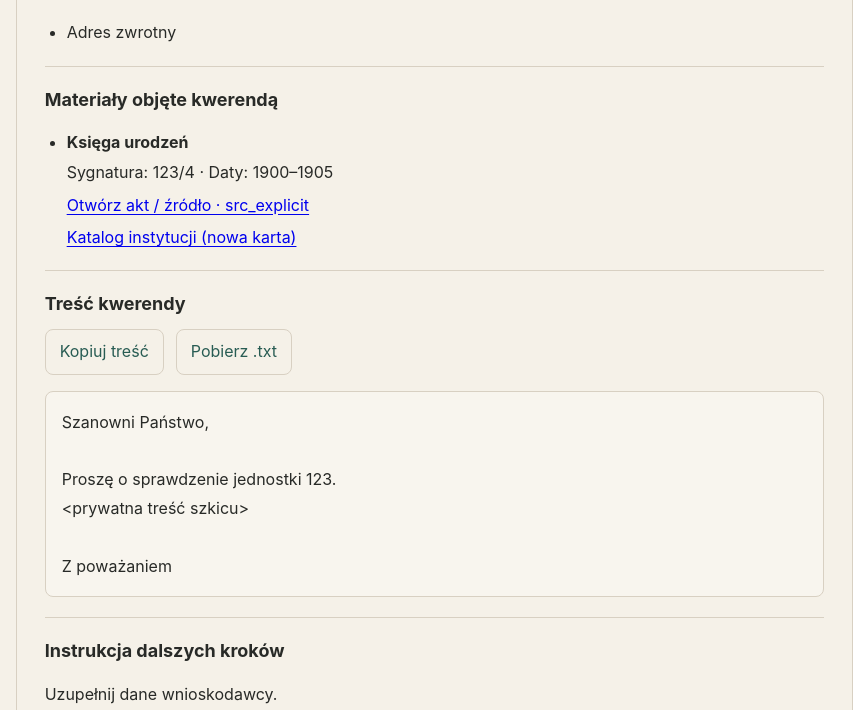
Test case: ArchiveRequestsView › downloads a plain text file with a safe filename and revokes its object URL
(page scrolled)
Click the button "Pobierz .txt": (234, 352) x1=176 y1=330 x2=292 y2=375
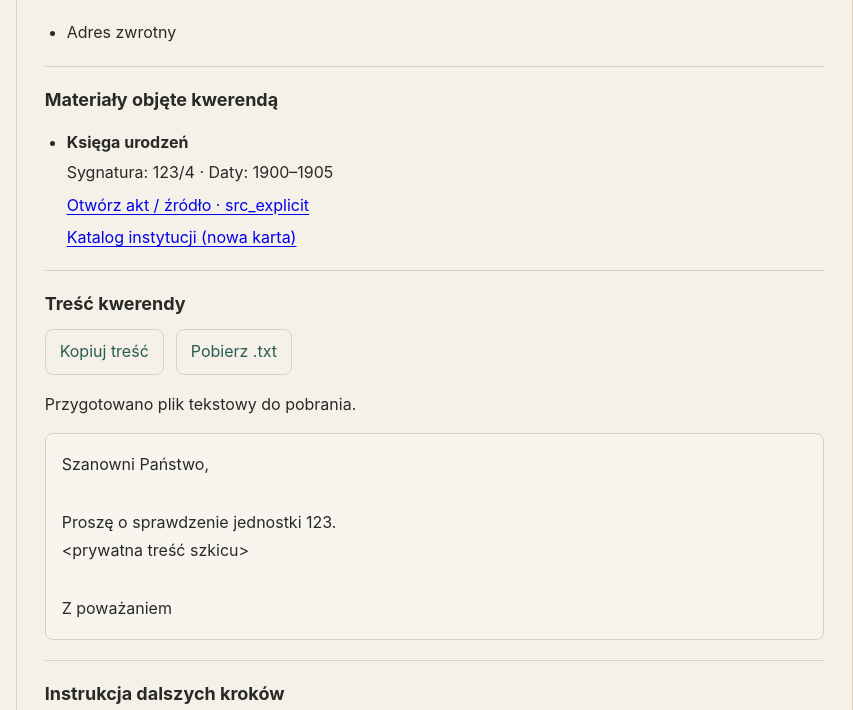
expect the text "Przygotowano plik tekstowy" is shown: met, box x1=45 y1=394 x2=356 y2=414
